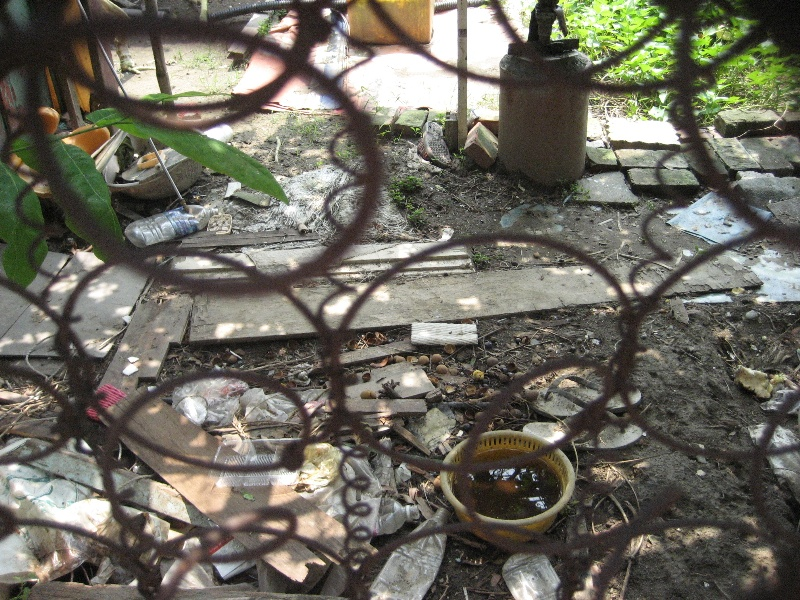bottle: (368, 506, 454, 600), (122, 200, 219, 249)
bowl: (439, 427, 579, 547), (103, 130, 204, 203)
box: (209, 435, 303, 489)
